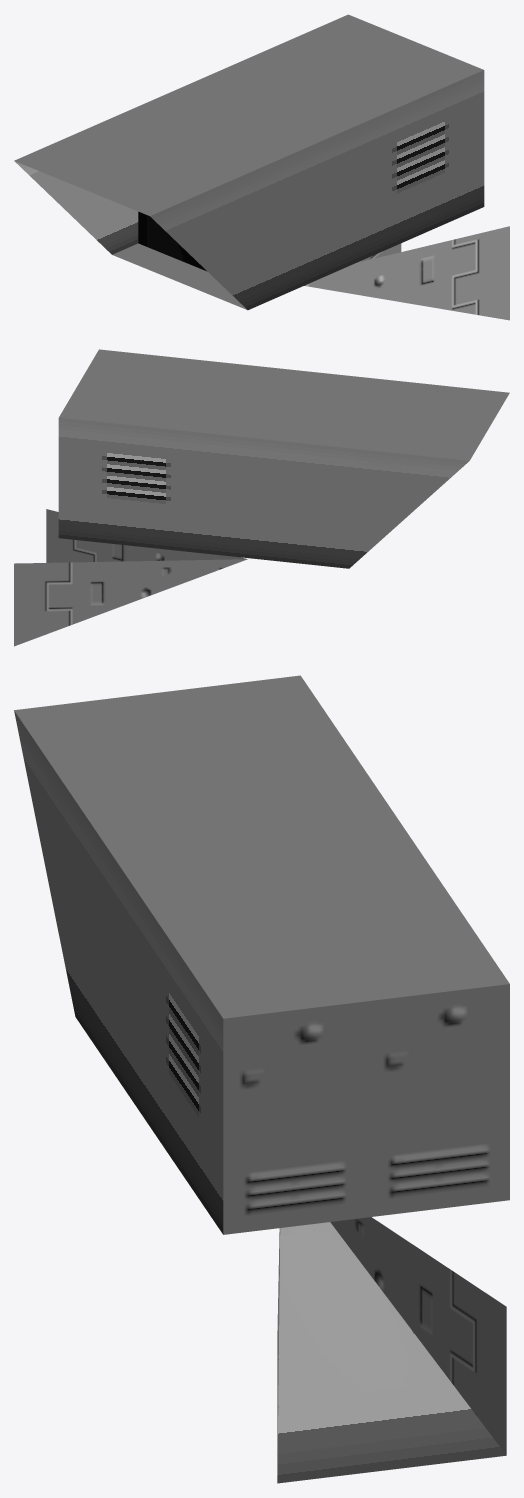
Rendered from primary_061.glb.
3 views of the same model, one above another, from view 1: azimuth 30°, elevation 25°; view 2: azimuth 150°, elevation 25°; view 3: azimuth 270°, elevation 25° (orthographic). The views are drawn at different scales.
Visible parts, largest first — view 1: Object; view 2: Object; view 3: Object.
Boxes of the visible parts, box(x1,y1,x2,y2) form: Object: box(14, 14, 509, 320); Object: box(14, 349, 509, 646); Object: box(14, 675, 509, 1483).
Size of the model in its own units: 0.8274 by 0.4426 by 0.4609.
Materials: 9 (9 with a texture image).
